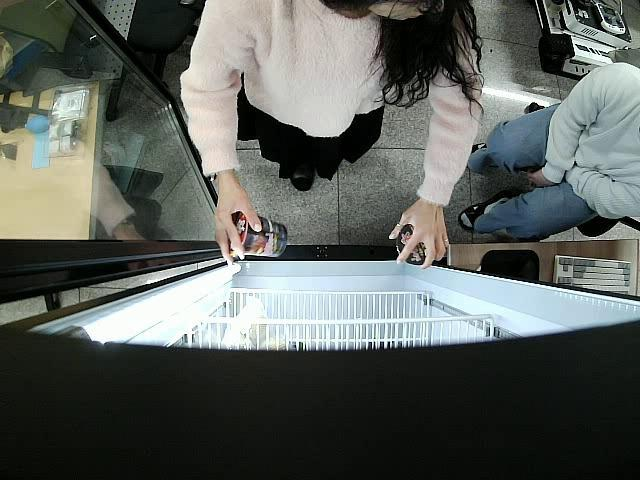08_buldak_S: (226, 210, 288, 262), (399, 219, 440, 267)
